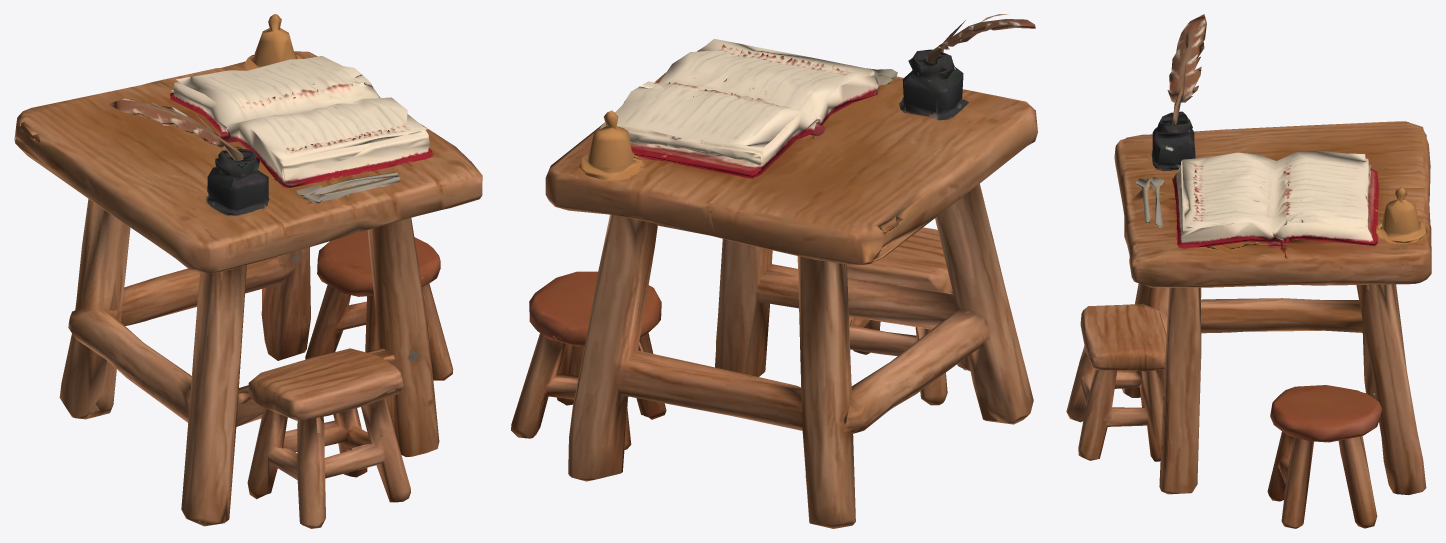
The model's file is sieve-tally-table.glb.
3 renders of one model, left to right at view 1: azimuth 30°, elevation 25°; view 2: azimuth 150°, elevation 25°; view 3: azimuth 270°, elevation 25°, orthographic. The views are drawn at different scales.
Size of the model in its own units: 1.1 by 1.08 by 1.02.
1 material, 1 textured.
